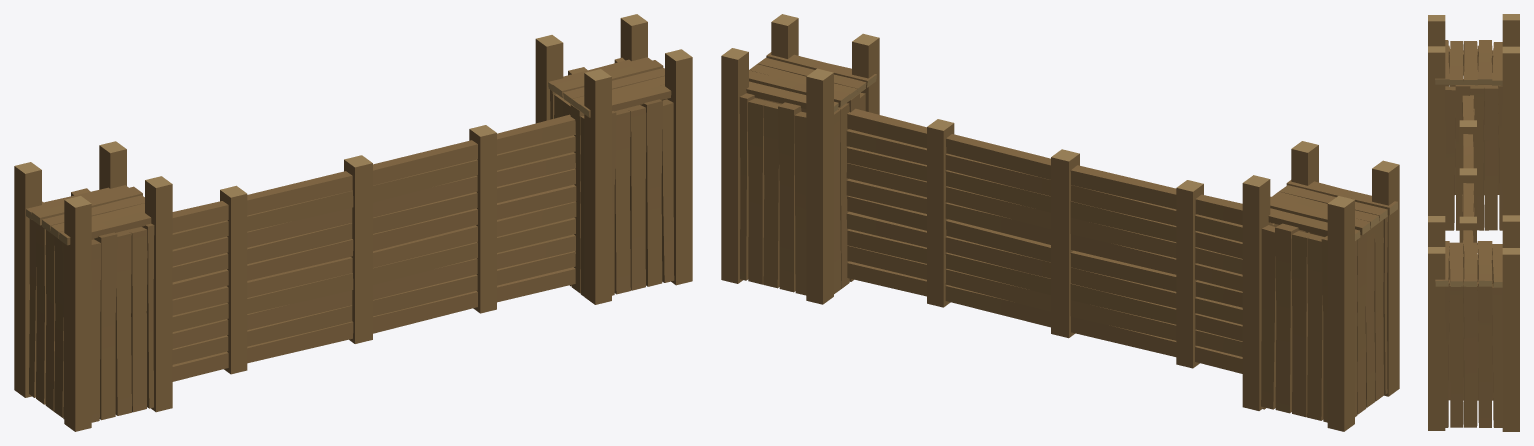
Rendered from Wooden Wall-L0TxLurnES.glb.
3 renders of one model, left to right at view 1: azimuth 30°, elevation 25°; view 2: azimuth 150°, elevation 25°; view 3: azimuth 270°, elevation 25°, orthographic. The views are drawn at different scales.
Parts seen in each view (by area): view 1: WallTowers_FirstAge; view 2: WallTowers_FirstAge; view 3: WallTowers_FirstAge.
Part boxes in pixels (x1,y1,x2,y2): WallTowers_FirstAge: (14, 14, 692, 431); WallTowers_FirstAge: (721, 14, 1399, 431); WallTowers_FirstAge: (1428, 14, 1519, 431).
Bounding box in the file's own units: 1.94 × 0.6725 × 0.3135.
